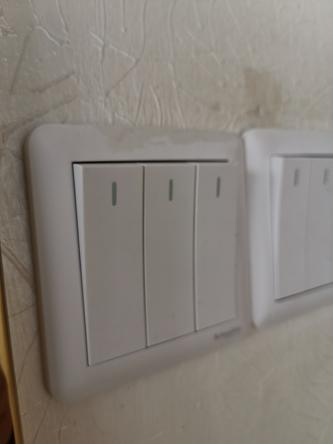switch: (69, 150, 155, 367), (139, 152, 203, 349), (189, 154, 244, 331), (268, 148, 319, 304), (308, 152, 333, 297)
